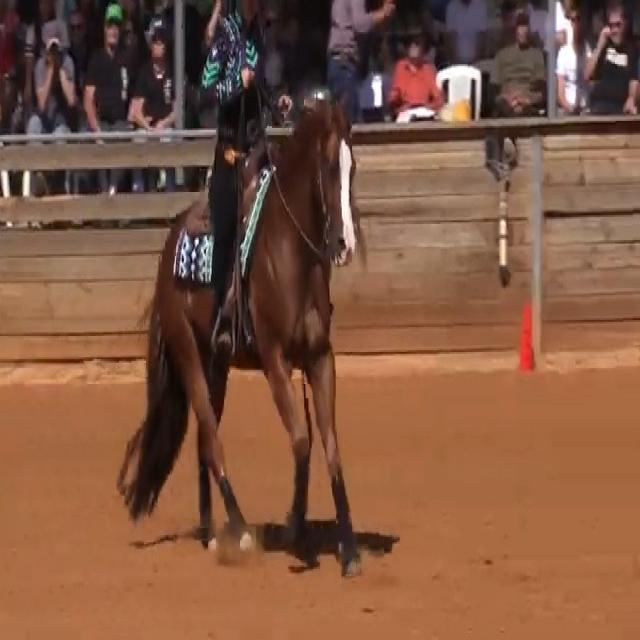horse: (119, 92, 366, 576)
